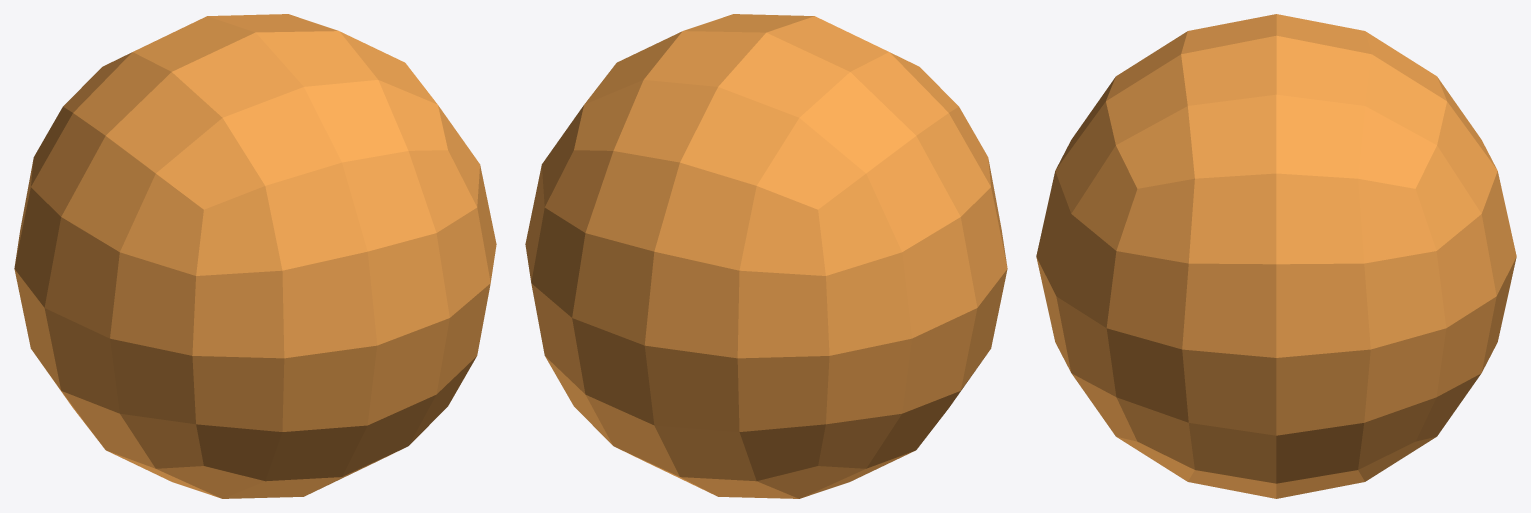
Rendered from SM_Env_Scale_Sun.fbx.
3 views of the same model, side by side, from view 1: azimuth 30°, elevation 25°; view 2: azimuth 150°, elevation 25°; view 3: azimuth 270°, elevation 25° (orthographic).
Parts seen in each view (by area): view 1: SM_Env_Scale_Sun; view 2: SM_Env_Scale_Sun; view 3: SM_Env_Scale_Sun.
Boxes of the visible parts, x1,y1,x2,y2 form: SM_Env_Scale_Sun: (14, 14, 496, 498); SM_Env_Scale_Sun: (525, 14, 1007, 498); SM_Env_Scale_Sun: (1036, 14, 1516, 498).
Bounding box in the file's own units: 100 × 102 × 100.
